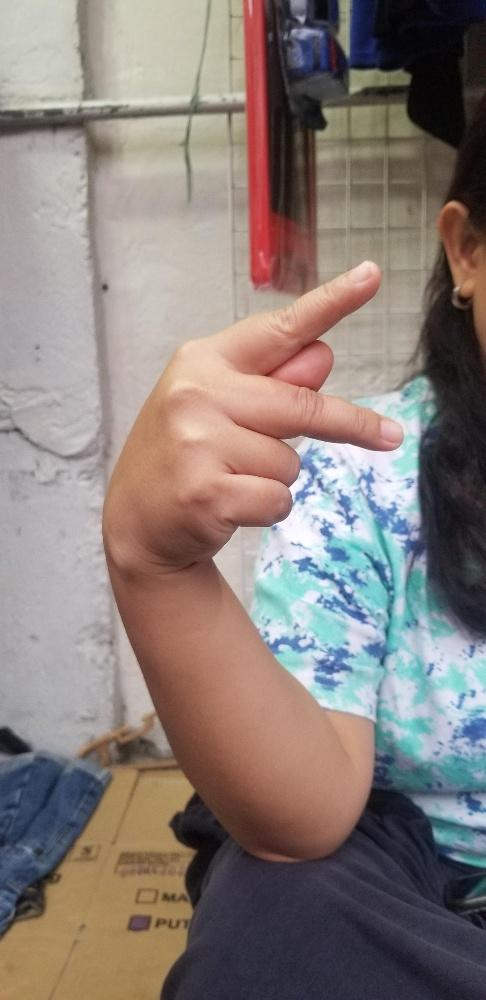k: (100, 257, 405, 575)
